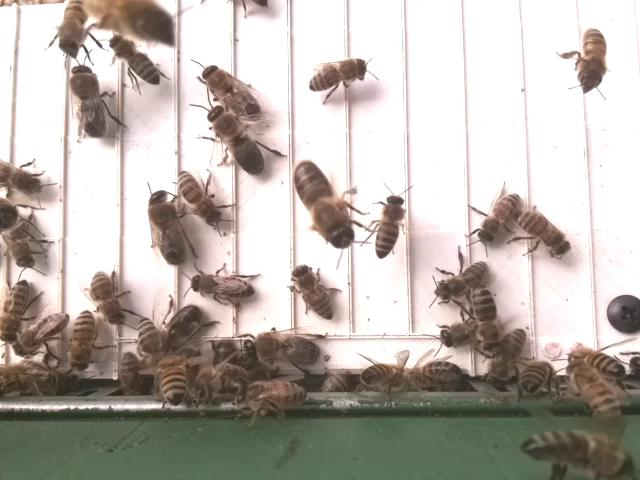Drone: (291, 158, 355, 248), (205, 104, 265, 177), (146, 186, 192, 267), (200, 63, 261, 119), (68, 62, 110, 140), (242, 333, 324, 370), (153, 304, 203, 359)
Worker: (290, 262, 337, 324), (109, 33, 162, 85), (13, 311, 73, 356), (516, 209, 571, 256), (477, 191, 526, 243), (432, 261, 492, 303), (489, 325, 530, 386), (370, 194, 407, 259), (188, 271, 262, 303), (307, 57, 372, 93), (472, 283, 504, 355), (90, 267, 127, 328), (575, 25, 610, 88), (0, 277, 32, 344), (67, 309, 97, 371), (570, 349, 628, 380), (58, 0, 89, 56)
